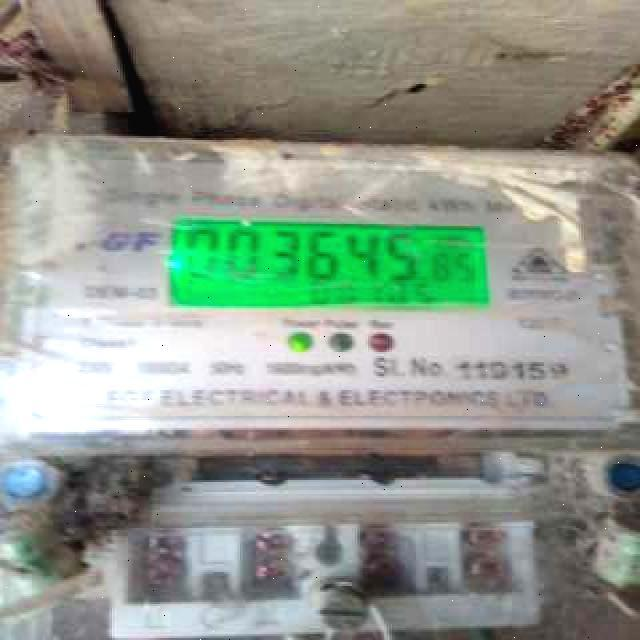LCD: (160, 209, 497, 318)
